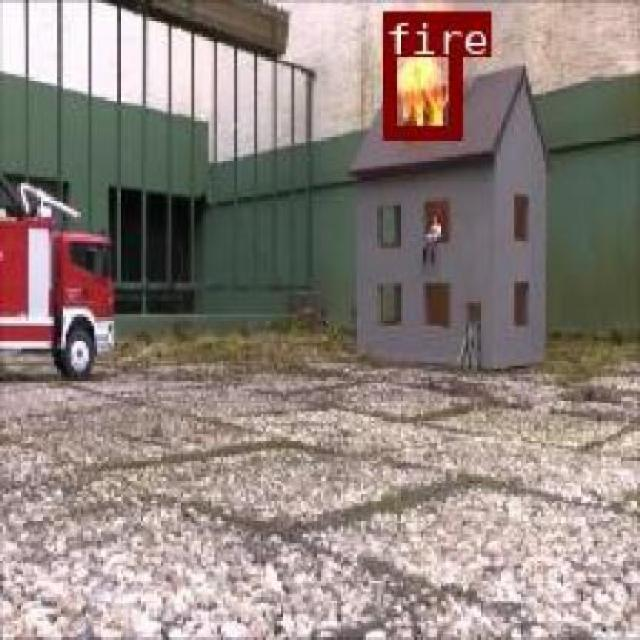Fire: (380, 9, 460, 137)
